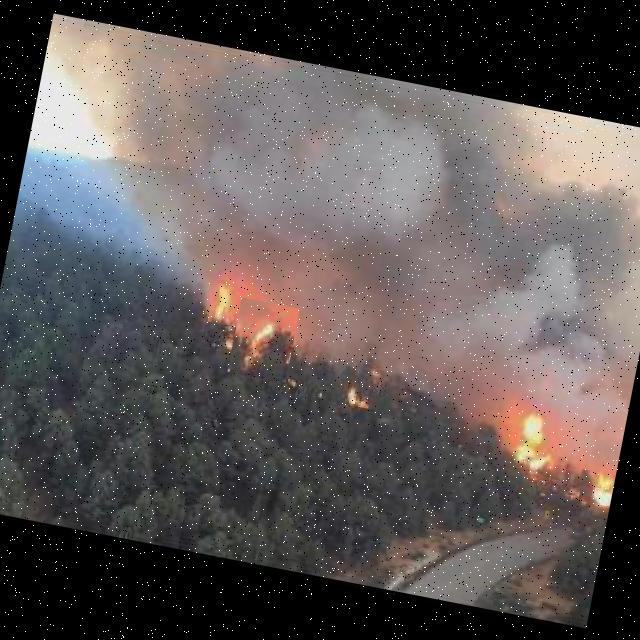fire: (228, 297, 300, 383), (496, 400, 564, 482), (208, 249, 255, 328)
